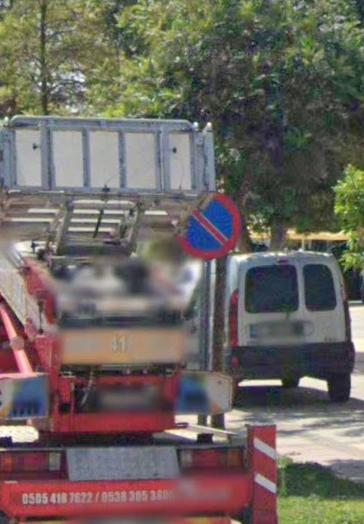nopark: (184, 192, 240, 259)
